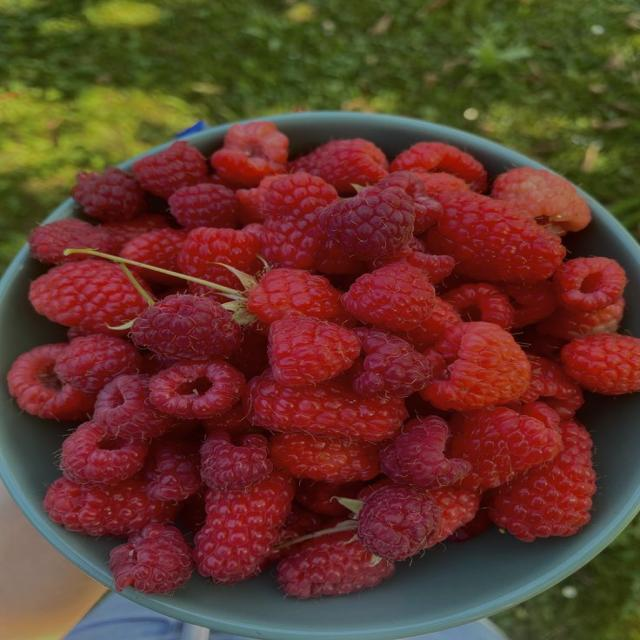raspberry: (425, 192, 566, 283), (490, 421, 595, 541), (245, 370, 406, 442), (194, 472, 293, 583), (421, 322, 530, 411), (450, 408, 561, 490), (29, 260, 147, 334), (43, 477, 176, 536), (277, 531, 394, 598), (261, 173, 338, 268), (320, 185, 415, 261), (131, 295, 241, 360), (7, 344, 95, 420), (380, 416, 471, 488), (341, 263, 435, 330), (268, 316, 359, 385), (492, 168, 591, 231), (358, 487, 439, 560), (110, 524, 193, 593), (60, 421, 148, 484), (149, 361, 245, 418), (270, 433, 379, 483), (247, 268, 344, 324), (291, 139, 387, 195), (354, 328, 430, 397), (94, 375, 174, 439), (211, 121, 288, 187), (54, 335, 143, 392), (179, 228, 259, 289), (561, 334, 639, 395), (390, 143, 486, 191), (200, 430, 273, 491), (133, 141, 207, 198), (376, 171, 441, 234), (520, 355, 583, 419), (144, 433, 201, 501), (73, 168, 145, 221), (554, 258, 626, 311), (28, 219, 113, 263), (536, 298, 625, 340), (373, 241, 455, 283), (442, 283, 514, 328), (168, 183, 238, 229), (402, 297, 461, 350), (429, 487, 480, 545), (120, 229, 186, 271), (295, 480, 365, 518), (101, 214, 169, 253), (502, 281, 557, 327), (235, 175, 281, 226), (228, 327, 268, 379), (278, 503, 323, 544), (314, 239, 366, 274), (516, 328, 570, 360), (413, 169, 470, 199), (201, 404, 259, 433), (447, 508, 493, 542), (176, 485, 206, 533), (517, 401, 560, 432), (406, 394, 450, 420), (357, 476, 399, 501), (141, 351, 178, 375), (67, 327, 93, 341), (243, 223, 263, 238)
